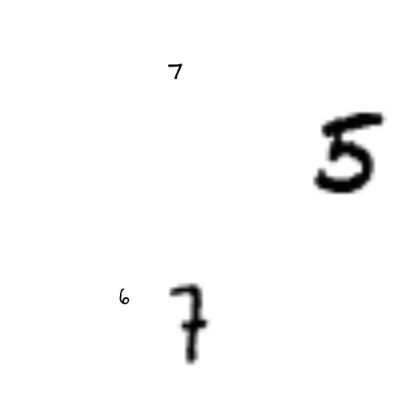Tank: (165, 278, 218, 371), (166, 61, 185, 81)
